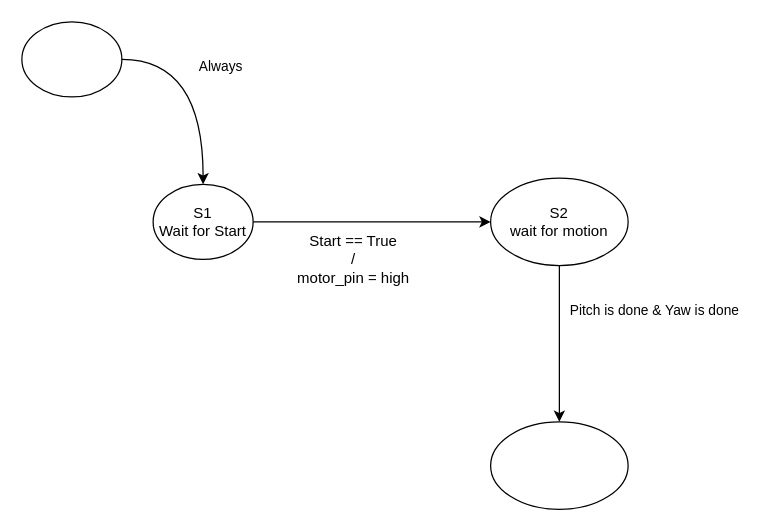
Some shapes in this 760 by 531 pixel diagram are drawn without their labels. The shapes that lost their labels are listed below. From the top down, each one's centre as x and y in pixels, then its label:
At (x=71, y=59): "S0 INIT".
At (x=558, y=465): "S3 Firing Sequence".
